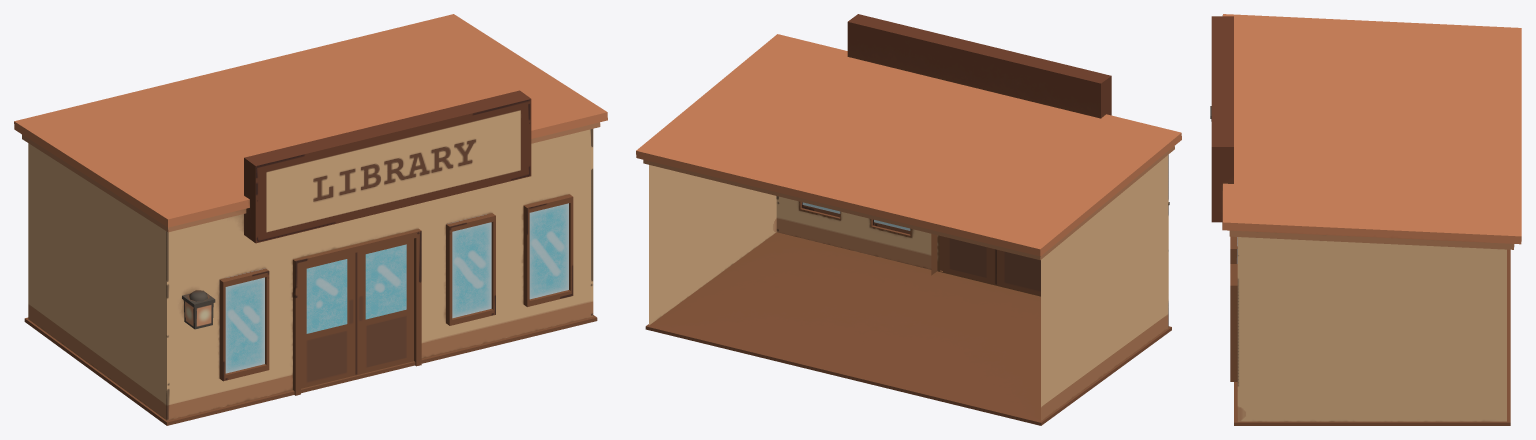
The model's file is BLD_Outside_Library.fbx.
3 views of the same model, side by side, from view 1: azimuth 30°, elevation 25°; view 2: azimuth 150°, elevation 25°; view 3: azimuth 270°, elevation 25° (orthographic). The views are drawn at different scales.
Visible parts, largest first — view 1: Cube.121, Cube.071, Cube.122, Plane.010, Cube.072, Plane.007, Plane.009, Plane.008, Cube.123; view 2: Cube.121, Cube.071, Cube.122; view 3: Cube.121, Cube.071, Plane.008.
Part boxes in pixels (x1,y1,x2,y2): Cube.121: (14,14,607,425); Cube.071: (244,90,531,243); Cube.122: (293,229,421,395); Plane.010: (225,222,491,373); Cube.072: (306,244,406,333); Plane.007: (219,213,495,381); Plane.009: (529,203,568,299); Plane.008: (523,194,573,306); Cube.123: (182,290,215,329); Cube.121: (636,34,1181,425); Cube.071: (847,14,1111,118); Cube.122: (931,233,1040,295); Cube.121: (1222,14,1521,425); Cube.071: (1211,16,1233,222); Plane.008: (1230,264,1237,381).
Size of the model in its own units: 1191 by 647 by 752.
Materials: 2 (2 with a texture image).
